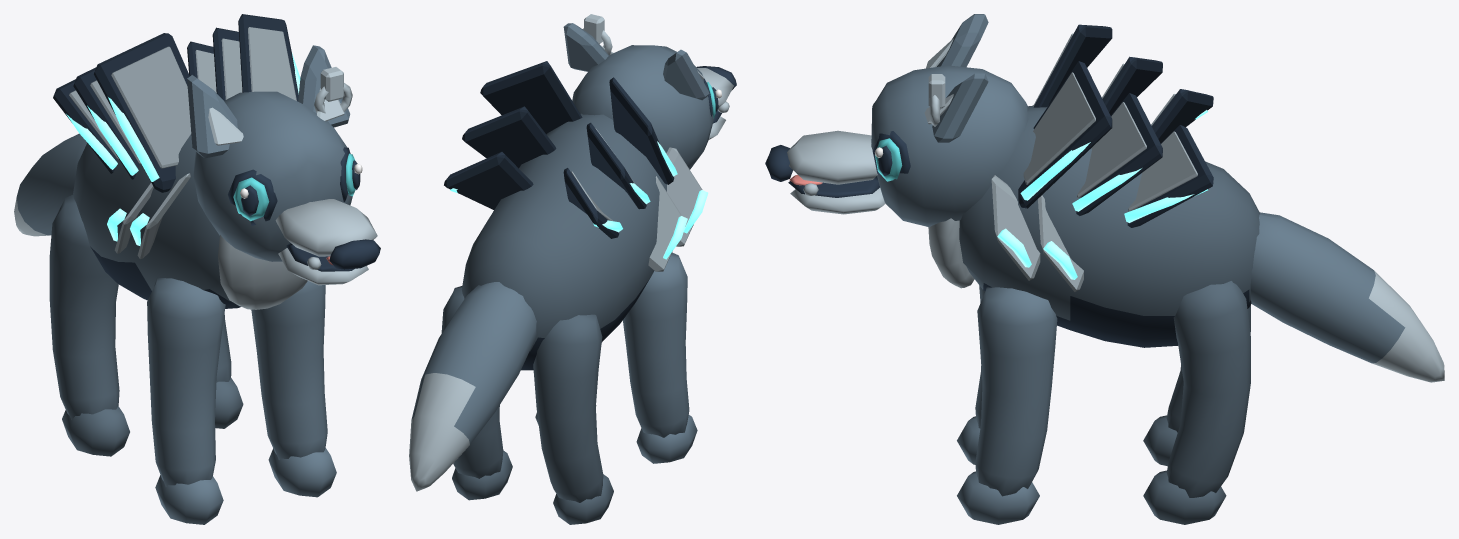
File: wolf_2.glb
3 renders of one model, left to right at view 1: azimuth 30°, elevation 25°; view 2: azimuth 150°, elevation 25°; view 3: azimuth 270°, elevation 25°, orthographic. The views are drawn at different scales.
Parts seen in each view (by area): view 1: Body, JawUpper, ArmL, ArmR, Tails, Glow, JawLower; view 2: Body, Tails, JawUpper, ArmL, Glow; view 3: Body, JawUpper, Tails, ArmR, Glow, JawLower, ArmL.
Boxes of the visible parts, bbox=[...] form: Body: bbox=[49, 14, 307, 456]; JawUpper: bbox=[187, 45, 380, 269]; ArmL: bbox=[147, 277, 225, 524]; ArmR: bbox=[251, 281, 336, 497]; Tails: bbox=[14, 133, 86, 236]; Glow: bbox=[66, 53, 300, 245]; JawLower: bbox=[278, 243, 368, 285]; Body: bbox=[441, 61, 702, 524]; Tails: bbox=[409, 282, 536, 491]; JawUpper: bbox=[563, 14, 736, 169]; ArmL: bbox=[623, 252, 697, 463]; Glow: bbox=[450, 141, 708, 259]; Body: bbox=[928, 24, 1259, 524]; JawUpper: bbox=[765, 14, 1028, 227]; Tails: bbox=[1250, 212, 1444, 382]; ArmR: bbox=[957, 287, 1057, 524]; Glow: bbox=[997, 110, 1207, 279]; JawLower: bbox=[788, 175, 885, 214]; ArmL: bbox=[957, 285, 985, 464].
Bounding box in the file's own units: 1.95 × 3.98 × 5.42.
